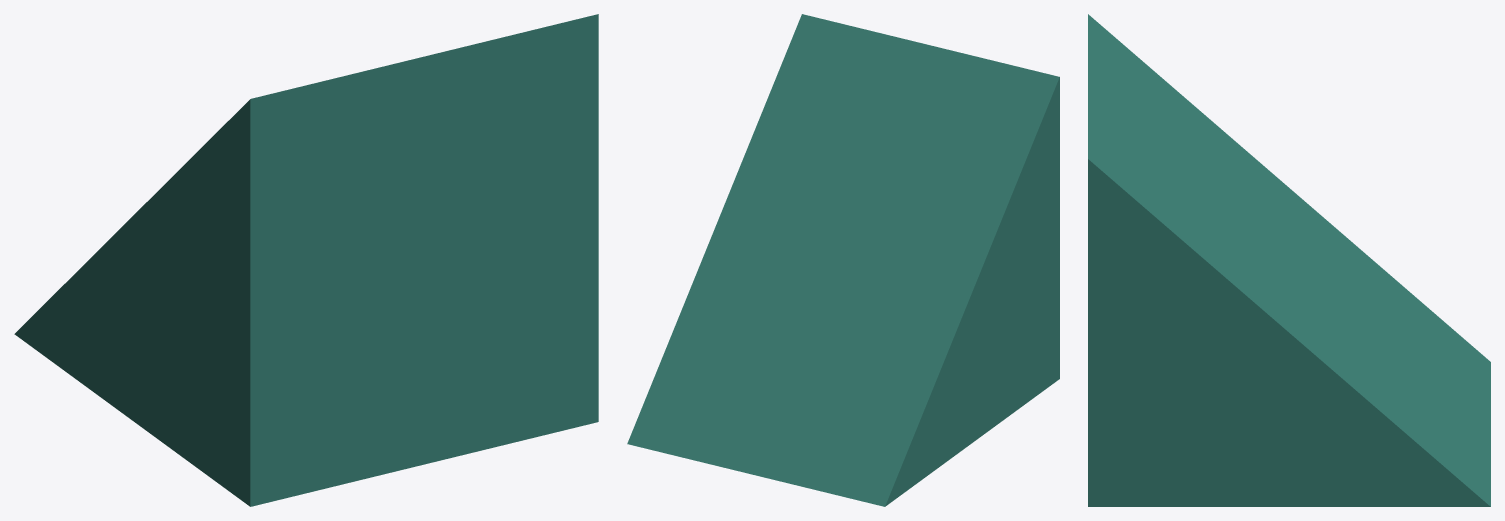
File: MetalStairs_Collision.fbx
3 views of the same model, side by side, from view 1: azimuth 30°, elevation 25°; view 2: azimuth 150°, elevation 25°; view 3: azimuth 270°, elevation 25° (orthographic). The views are drawn at different scales.
Parts seen in each view (by area): view 1: MetalStairs_Collision; view 2: MetalStairs_Collision; view 3: MetalStairs_Collision.
Part boxes in pixels (left/top/right/bottom): MetalStairs_Collision: left=14, top=14, right=598, bottom=506; MetalStairs_Collision: left=627, top=14, right=1059, bottom=506; MetalStairs_Collision: left=1088, top=14, right=1490, bottom=506.
Size of the model in its own units: 1.13 by 1.27 by 1.33.
